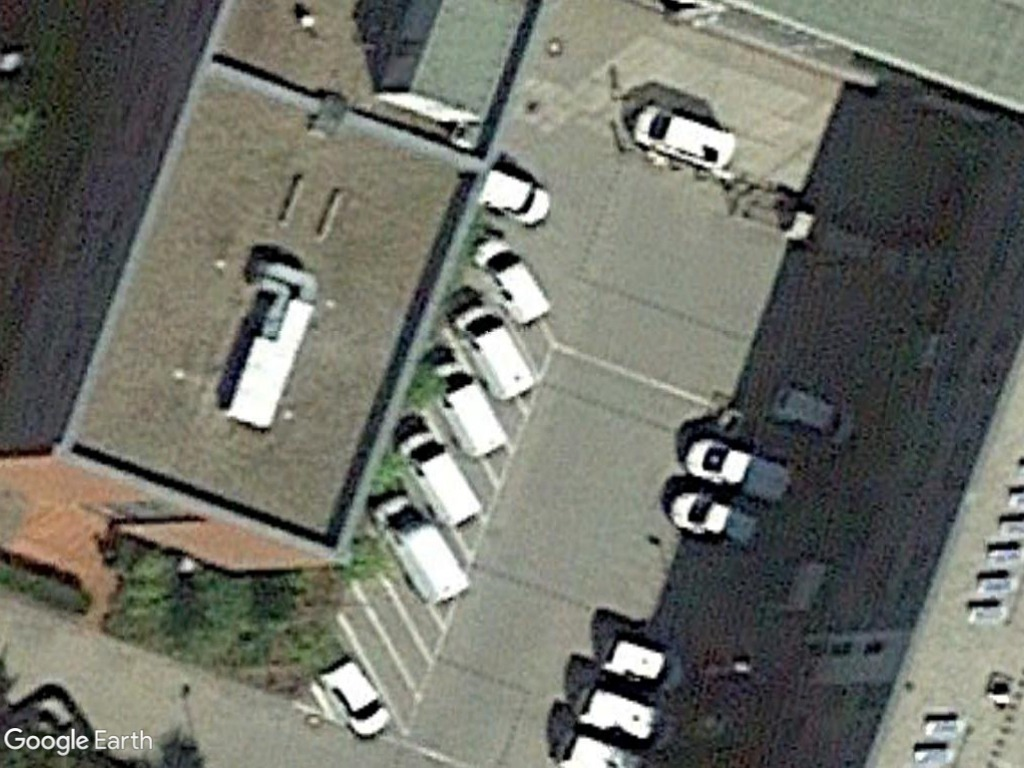car: (321, 649, 389, 741)
van: (368, 488, 474, 608), (395, 427, 492, 531), (450, 297, 537, 402), (629, 98, 742, 177), (426, 354, 509, 459), (681, 435, 799, 505), (469, 237, 550, 329), (665, 488, 760, 550)
